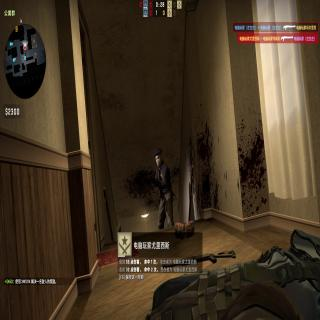T-Body: (152, 150, 173, 226)
T-Head: (154, 151, 163, 166)
